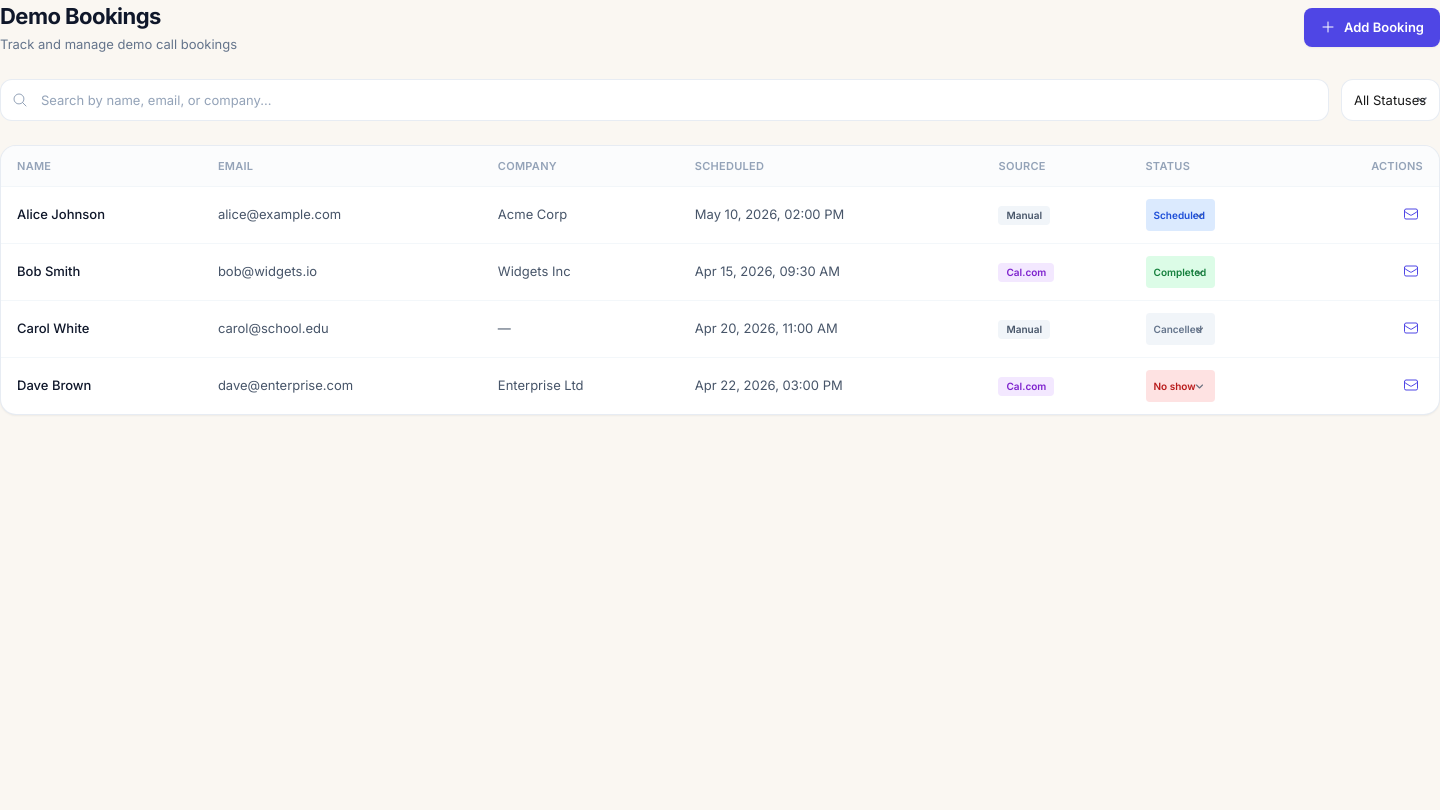
Scenario: DemoBookingsPage › Create Booking modal › shows "Email is required" Zod error when only name is filled
Click the button "Add Booking" at x=1372, y=27, box [1304,8,1439,47]
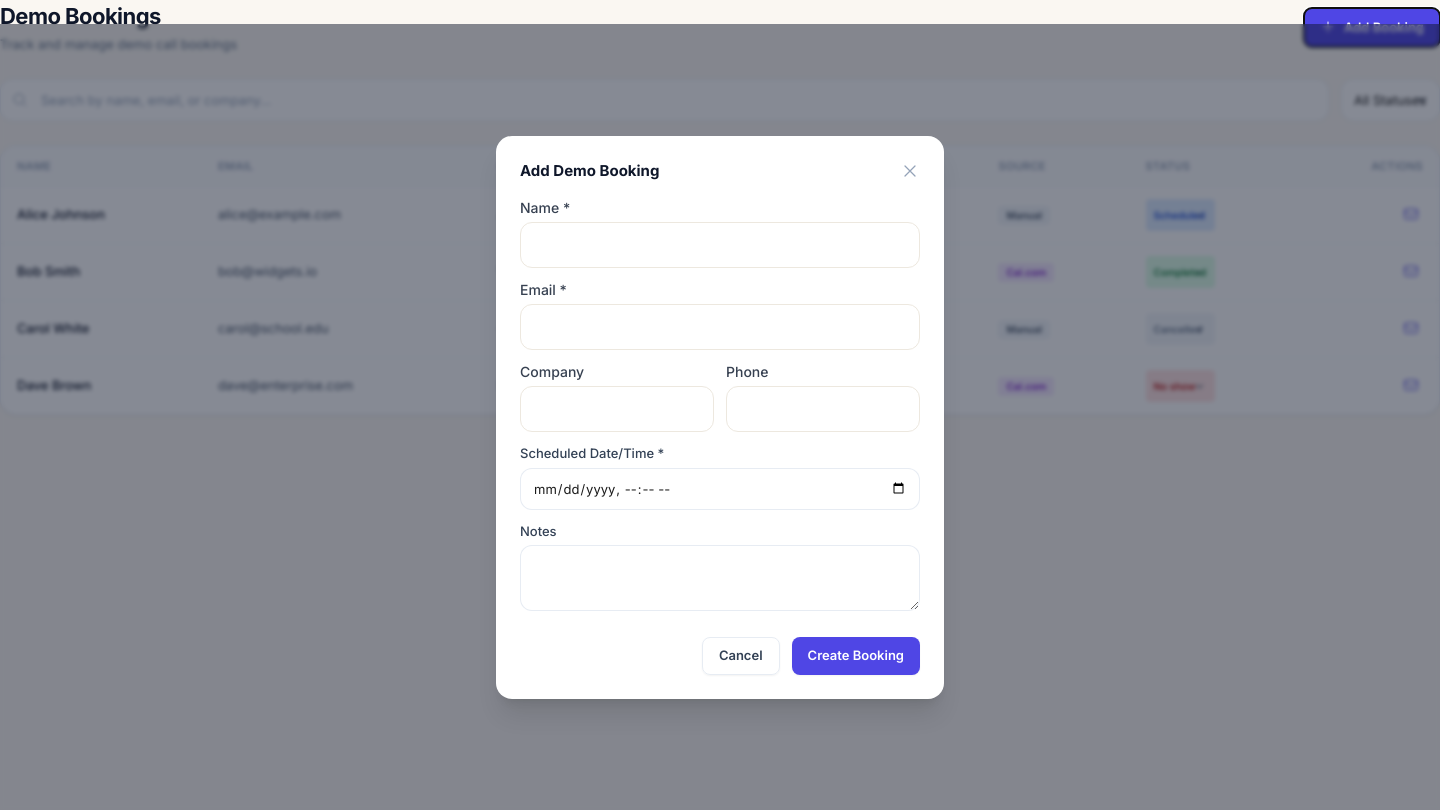
Type "Test User" into the field labelled "Name *" at x=720, y=245, box [520,222,920,268]
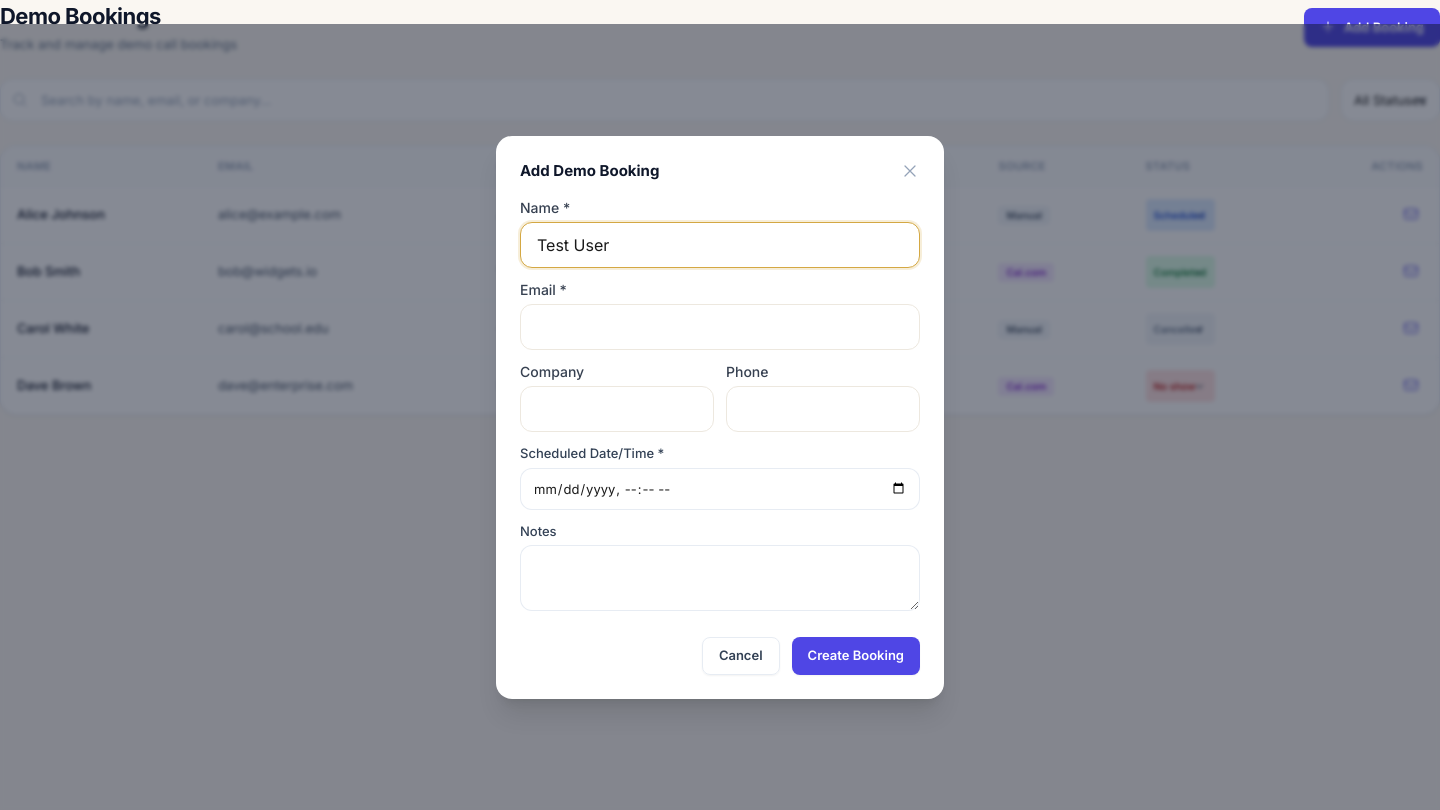
Click the button "Create Booking" at x=856, y=656, box [792,637,920,674]
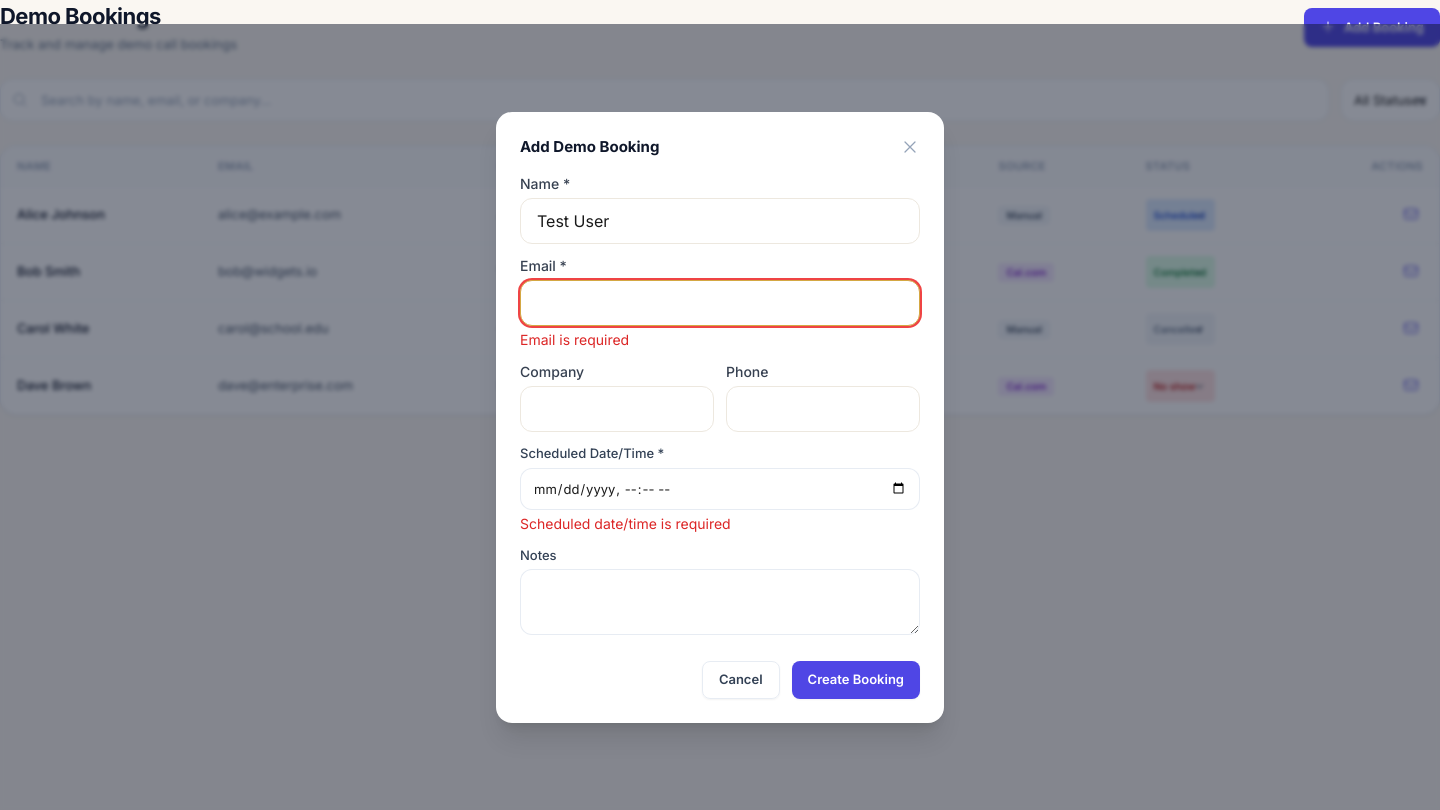
Now the text "Email is required" is shown, box [520,331,629,348]
